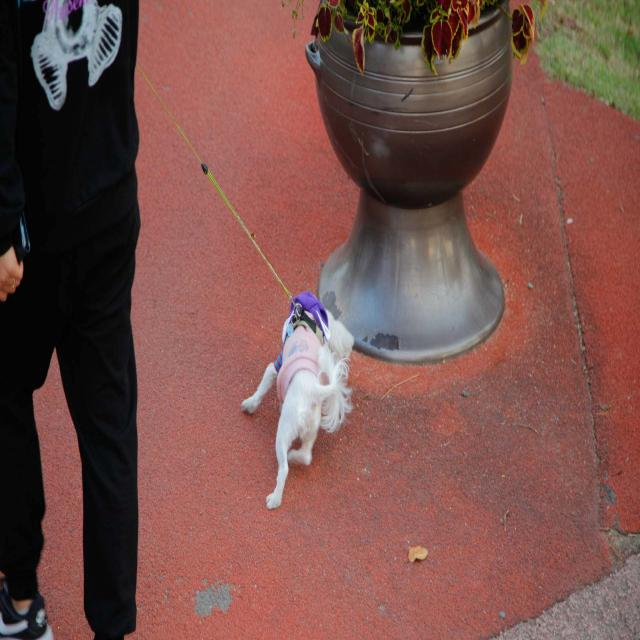Leashed_Dog: (74, 61, 354, 512)
